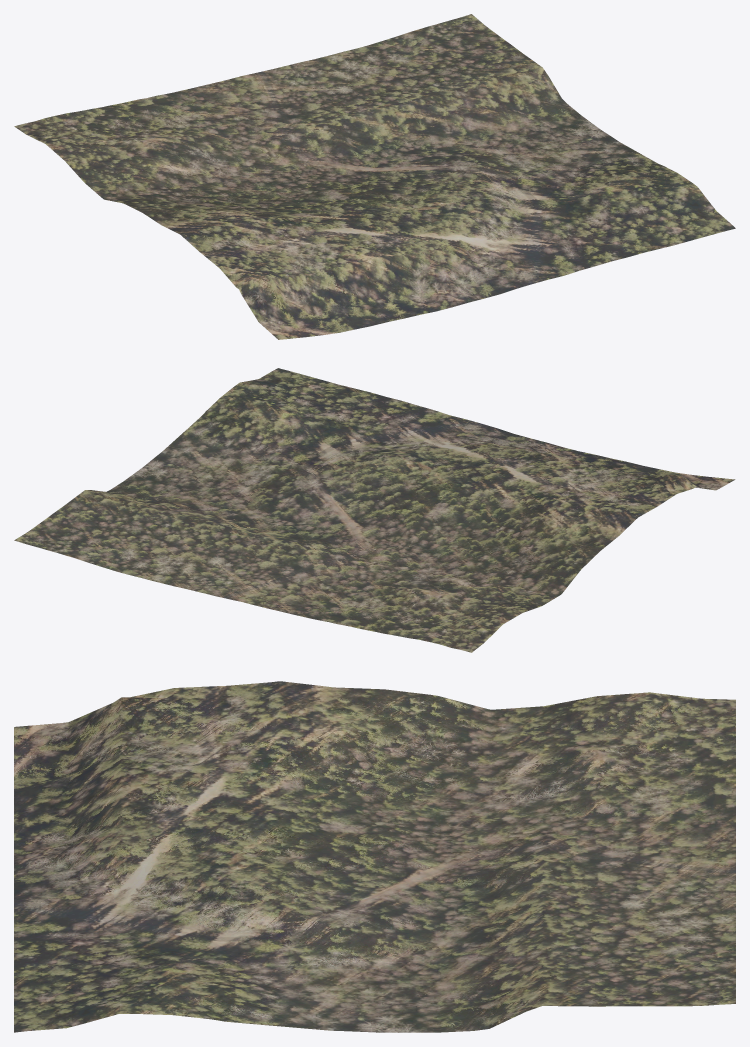
Rendered from CM_Terrain_24490458_6822456.fbx.
3 renders of one model, top to bottom at view 1: azimuth 30°, elevation 25°; view 2: azimuth 150°, elevation 25°; view 3: azimuth 270°, elevation 25°, orthographic. The views are drawn at different scales.
Parts seen in each view (by area): view 1: CM_Terrain_24490458_6822456_LOD0; view 2: CM_Terrain_24490458_6822456_LOD0; view 3: CM_Terrain_24490458_6822456_LOD0.
Boxes of the visible parts, left/top/right/bottom form: CM_Terrain_24490458_6822456_LOD0: left=14, top=14, right=735, bottom=339; CM_Terrain_24490458_6822456_LOD0: left=14, top=368, right=735, bottom=652; CM_Terrain_24490458_6822456_LOD0: left=14, top=681, right=735, bottom=1032.
Size of what is drawn, in the model's own units: 205 by 18.9 by 205.
